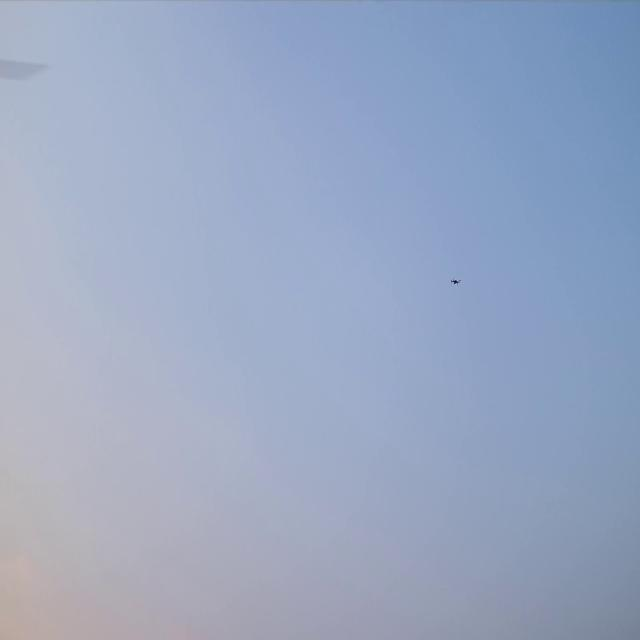UAV: (449, 276, 462, 287)
